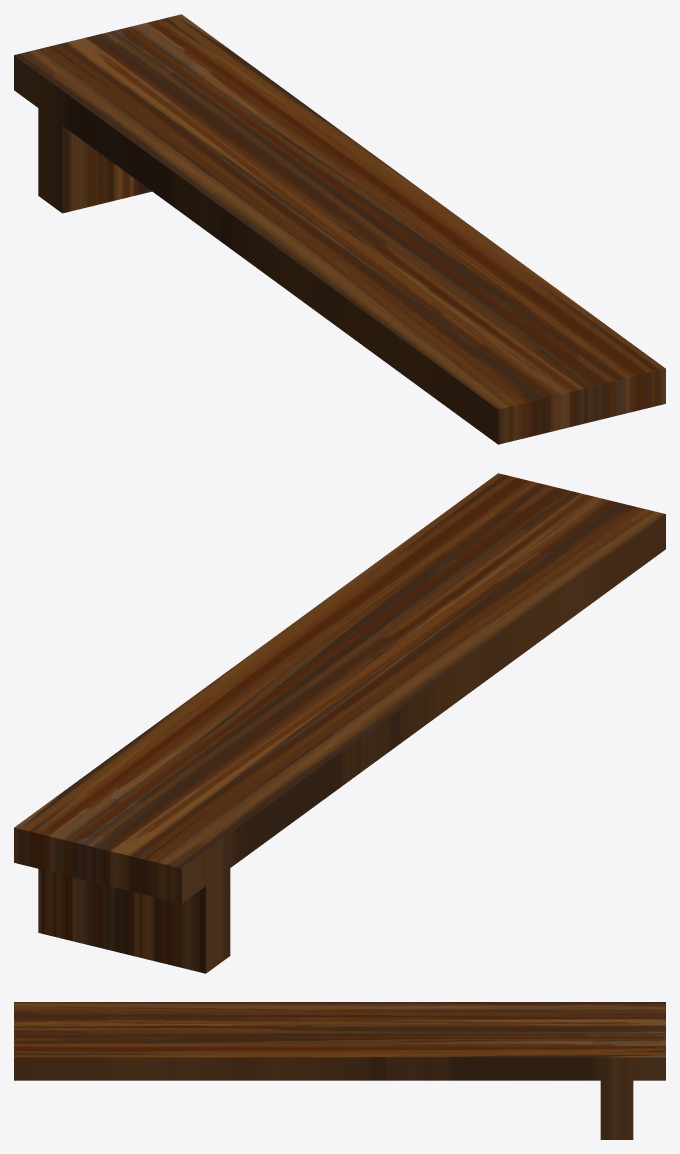
File: table.glb
The picture shows the model from 3 angles, top to bottom: view 1: azimuth 30°, elevation 25°; view 2: azimuth 150°, elevation 25°; view 3: azimuth 270°, elevation 25°; orthographic projection. The views are drawn at different scales.
Visible parts, largest first — view 1: Plane; view 2: Plane; view 3: Plane.
Boxes of the visible parts, left/top/right/bottom form: Plane: left=14, top=14, right=665, bottom=444; Plane: left=14, top=473, right=665, bottom=973; Plane: left=14, top=1002, right=665, bottom=1139.
Size of the model in its own units: 1 by 0.7 by 5.
Materials: 1 (1 with a texture image).
